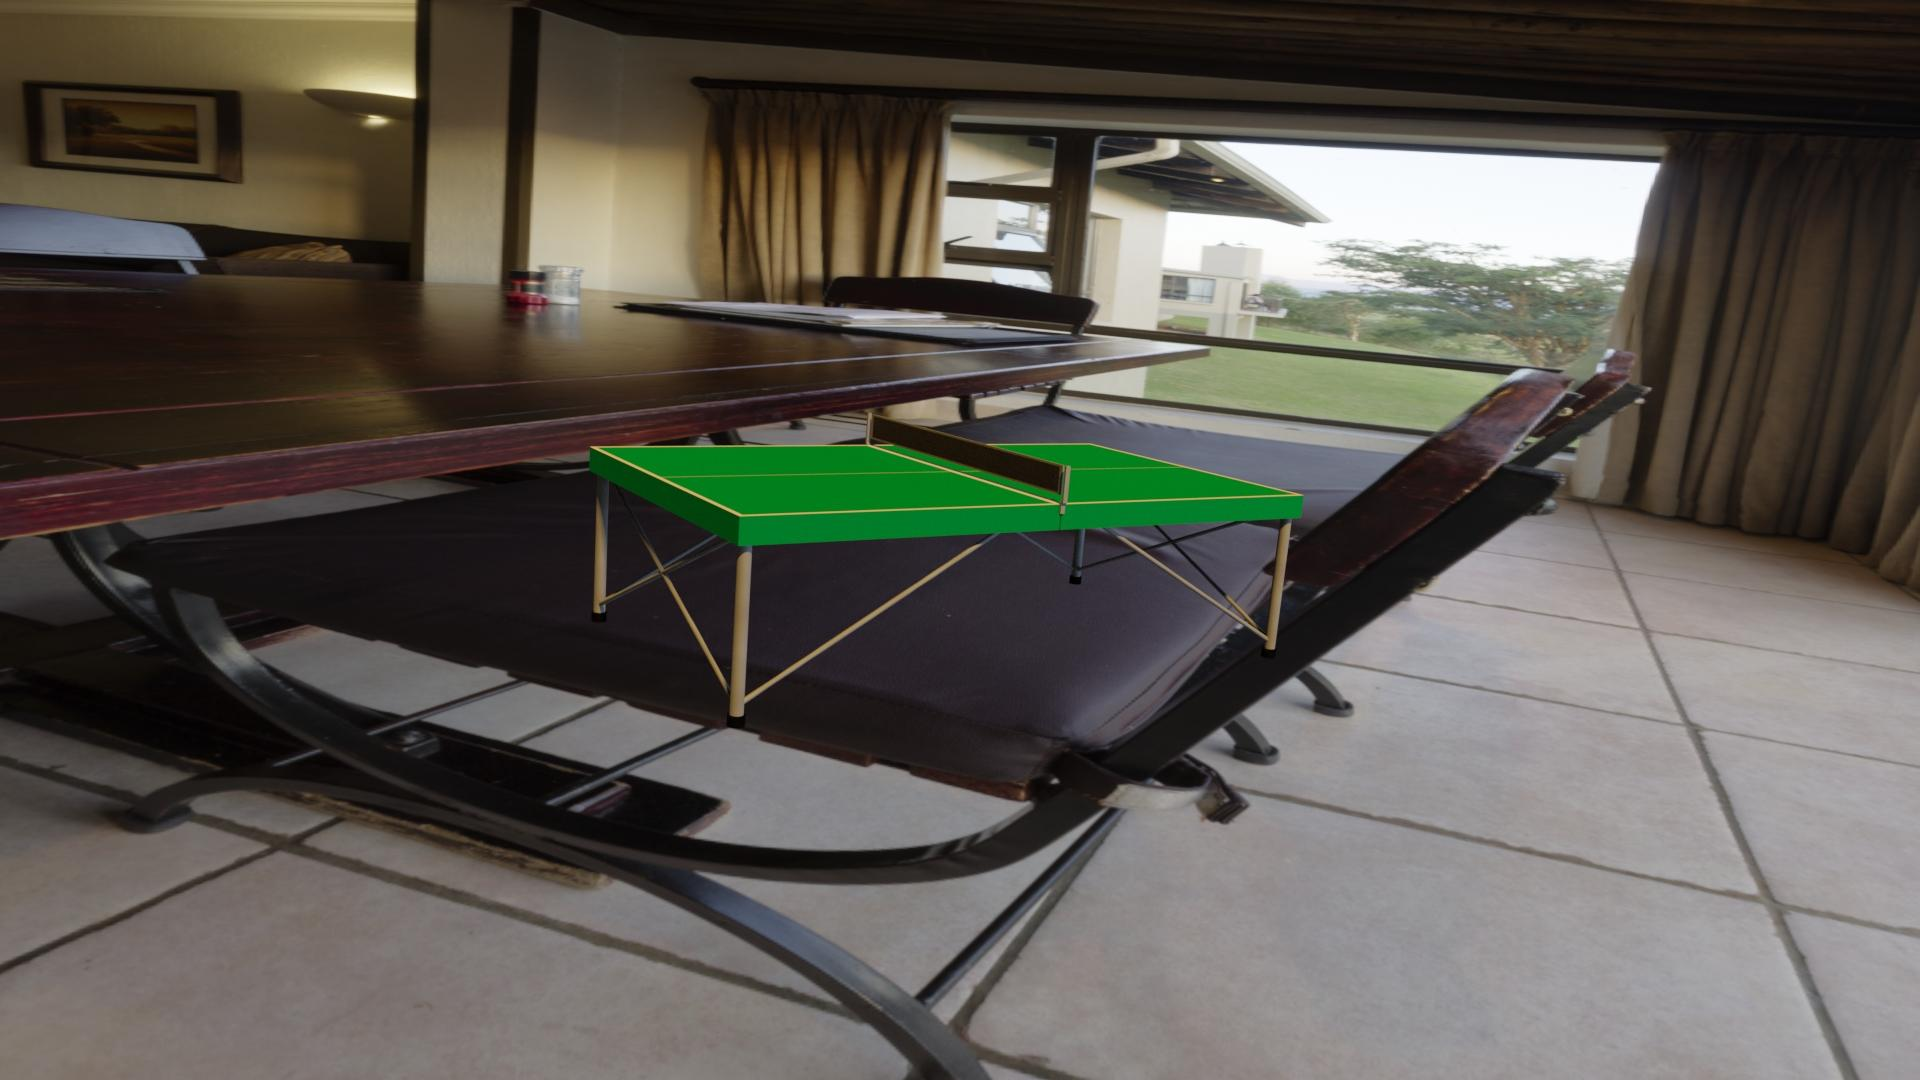table: (596, 444, 1298, 516)
